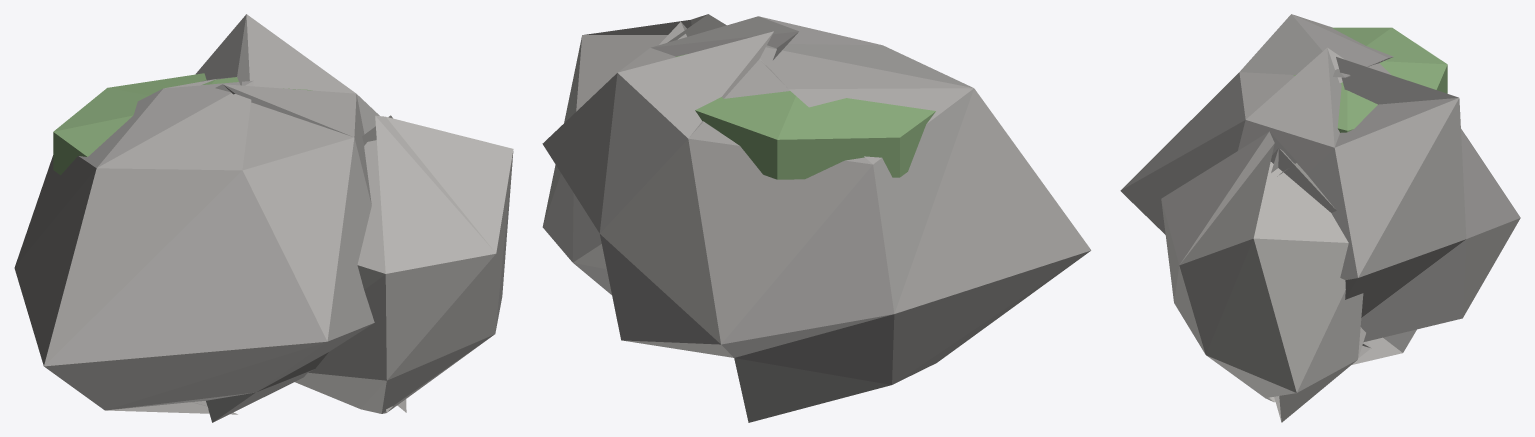
Rendered from valak_rocha_1.glb.
3 renders of one model, left to right at view 1: azimuth 30°, elevation 25°; view 2: azimuth 150°, elevation 25°; view 3: azimuth 270°, elevation 25°, orthographic. The views are drawn at different scales.
Visible parts, largest first — view 1: rocha; view 2: rocha; view 3: rocha.
Boxes of the visible parts, x1=… form: rocha: x1=14, y1=14, x2=513, y2=422; rocha: x1=542, y1=14, x2=1091, y2=422; rocha: x1=1120, y1=14, x2=1520, y2=422.
Size of the model in its own units: 1.85 by 1.26 by 1.48.
